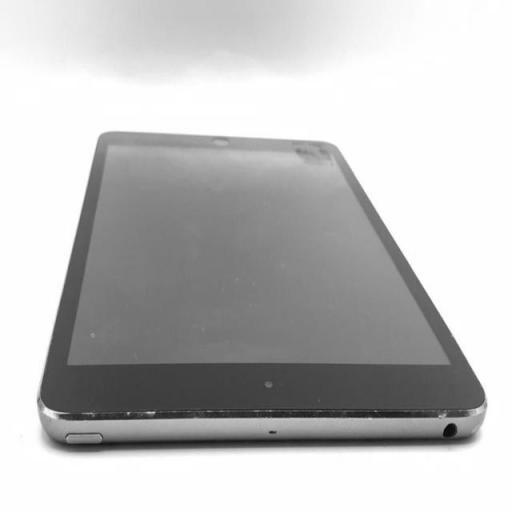phone: (41, 125, 492, 454)
